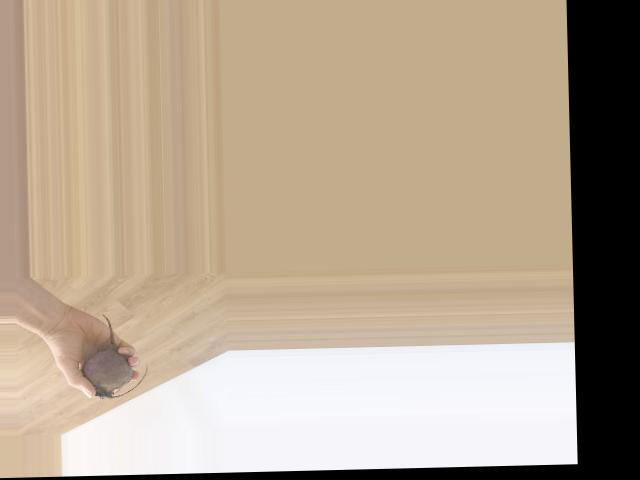beet: (80, 313, 149, 399)
